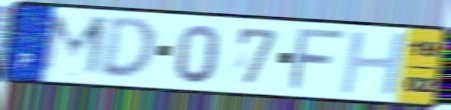0: (170, 21, 223, 86)
7: (236, 27, 278, 87)
D: (97, 16, 159, 83)
F: (285, 27, 351, 92)
H: (337, 31, 411, 97)
M: (36, 11, 111, 81)
